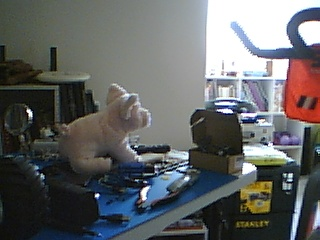piggy: (55, 82, 152, 175)
